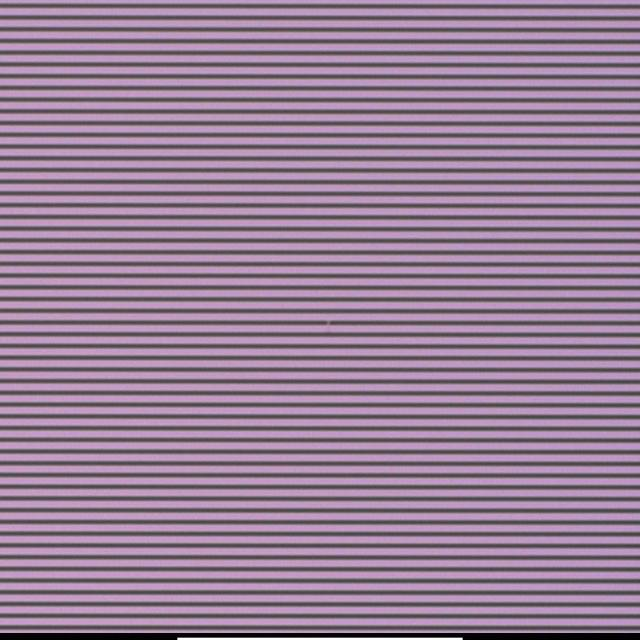03_intrusion: (325, 318, 334, 330)
